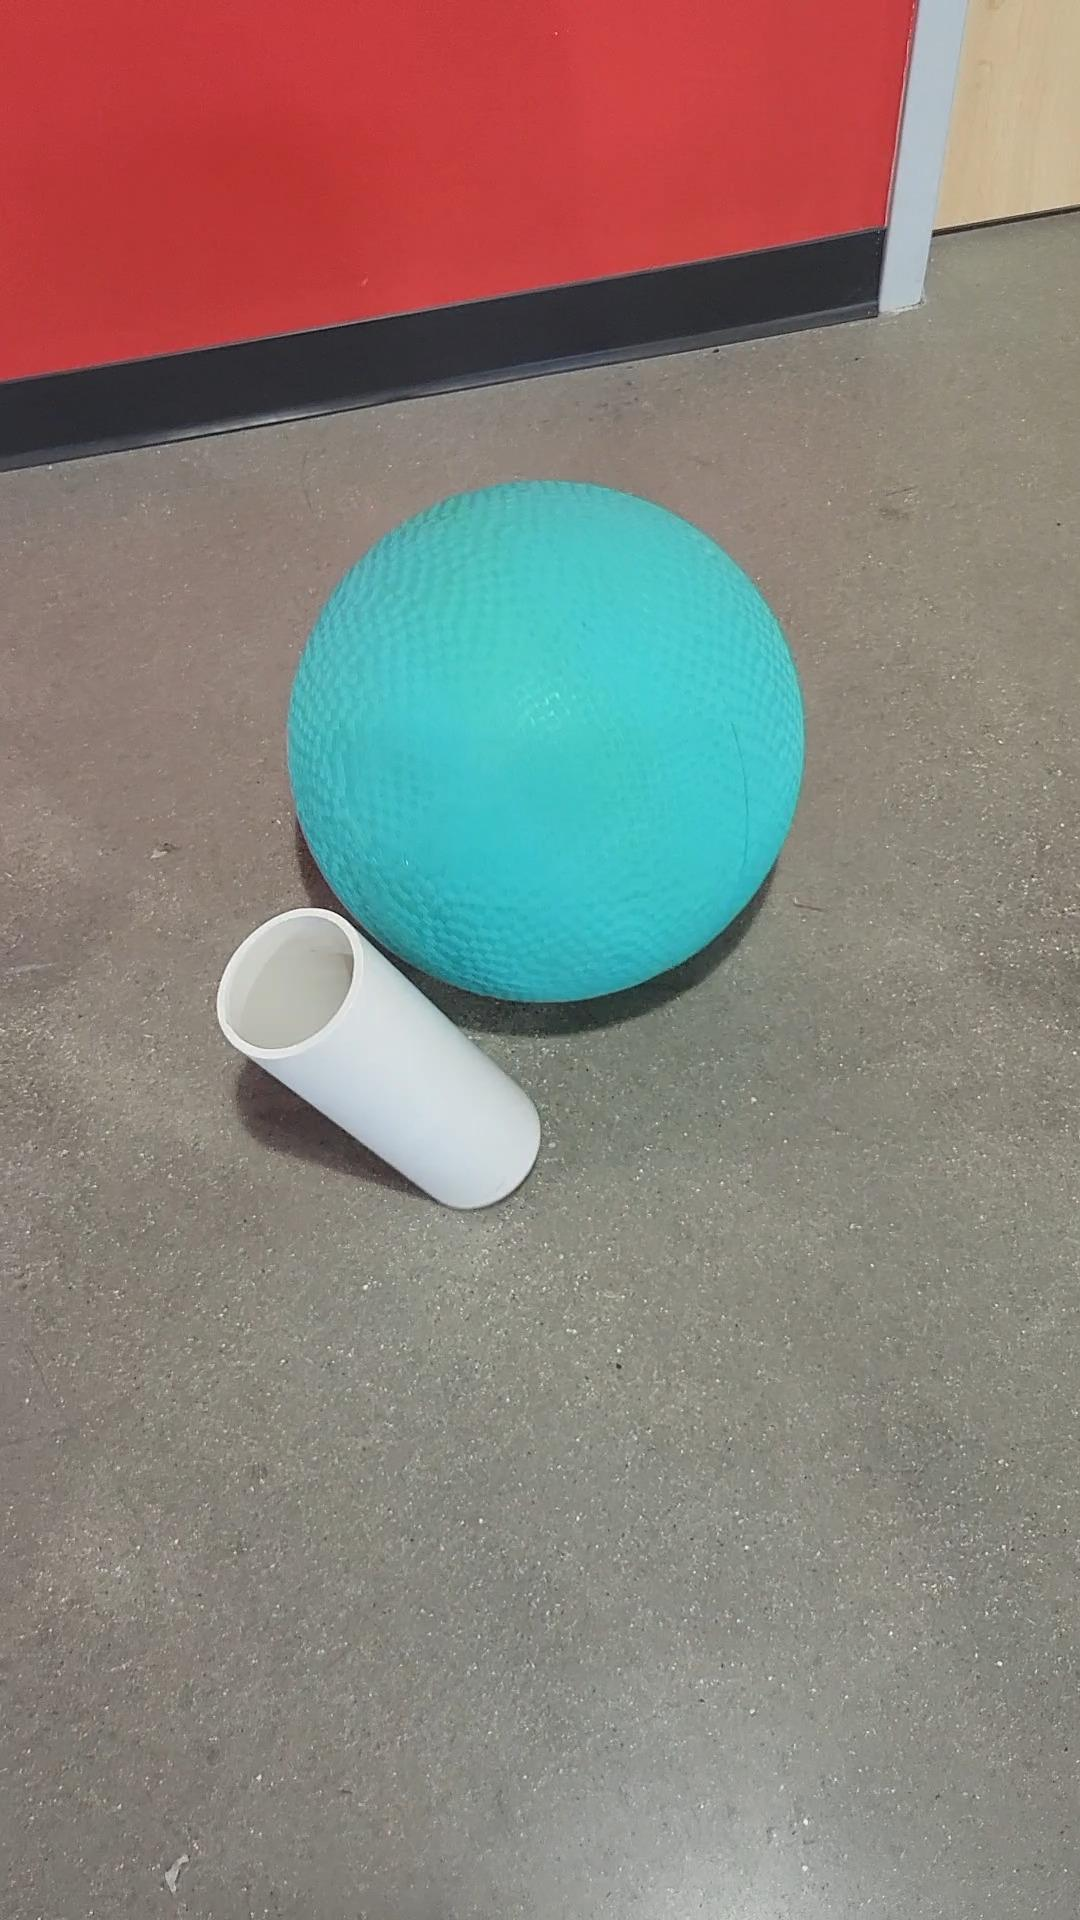algae: (285, 479, 808, 1002)
coral: (215, 905, 543, 1216)
